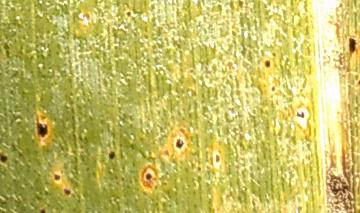tarspot: (344, 35, 358, 56), (34, 120, 48, 139), (293, 108, 308, 122), (106, 148, 118, 161), (261, 58, 274, 70), (1, 152, 10, 169), (51, 172, 64, 183), (62, 186, 73, 198), (174, 137, 184, 149), (143, 171, 154, 181), (269, 84, 277, 97), (212, 154, 222, 164), (37, 205, 48, 213)
